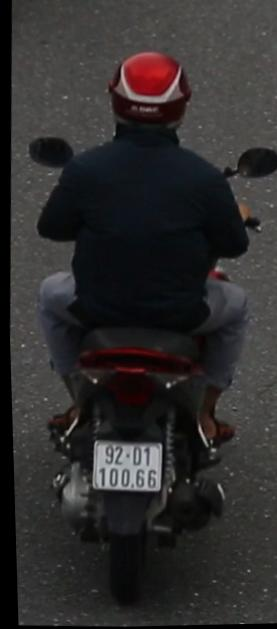LP: (80, 431, 165, 512)
helmet: (103, 44, 192, 148)
